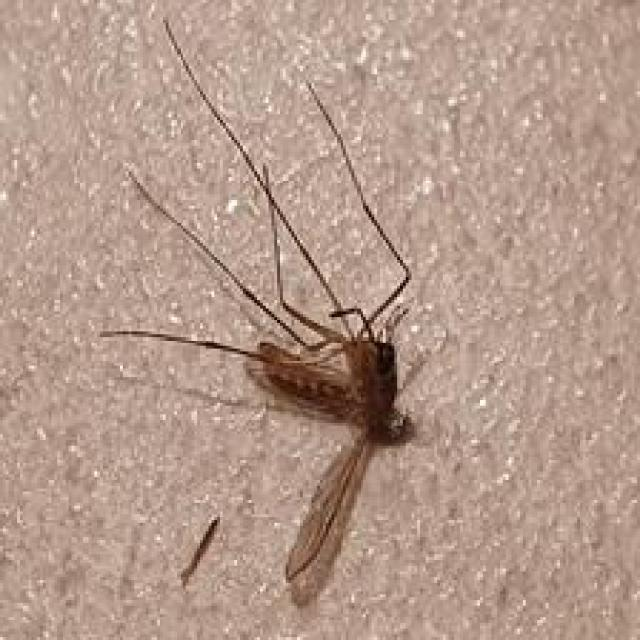Culex: (97, 14, 429, 612)
